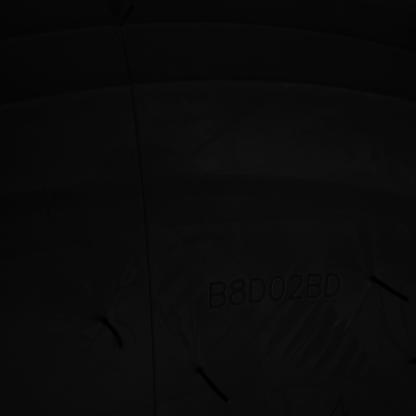ocr: (206, 270, 342, 312)
